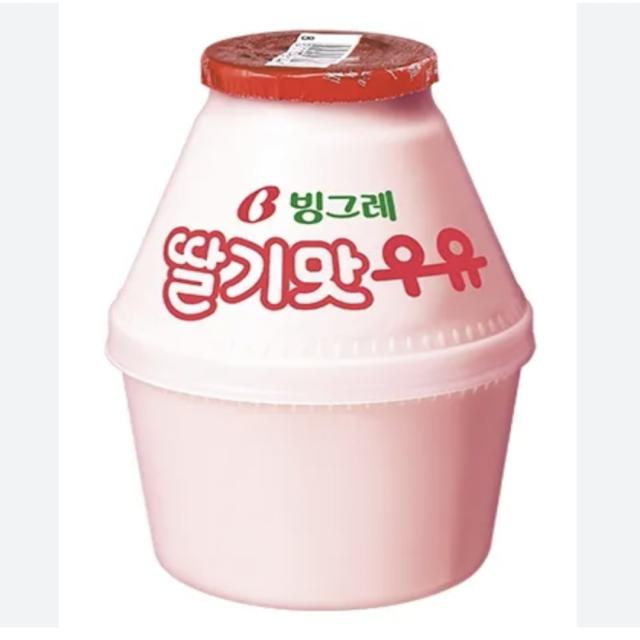recyclable: (91, 14, 548, 623)
